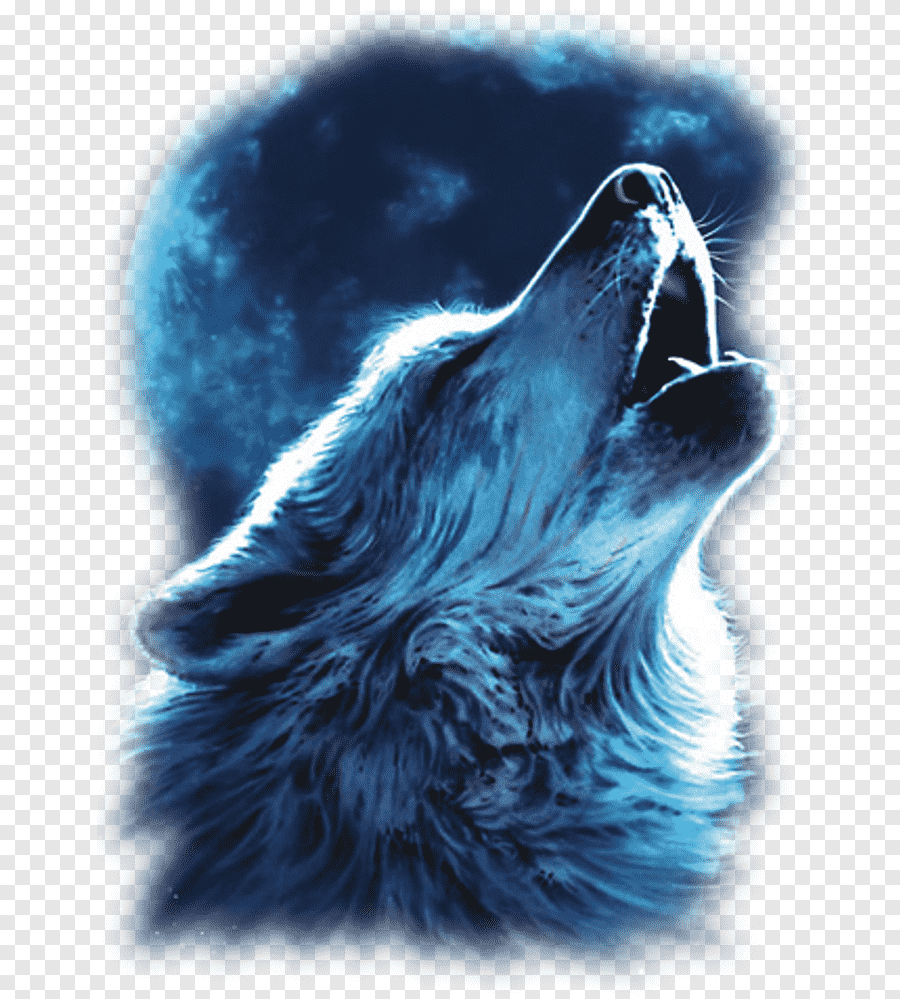Lobo: (90, 121, 772, 914)
